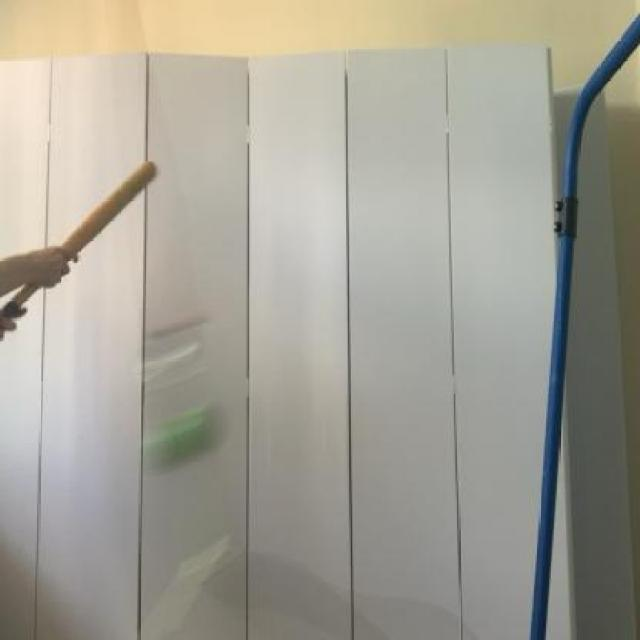baseball: (135, 393, 231, 478)
